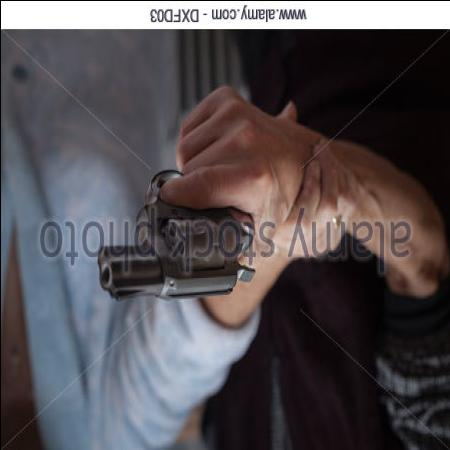Pistol: (98, 164, 256, 309)
